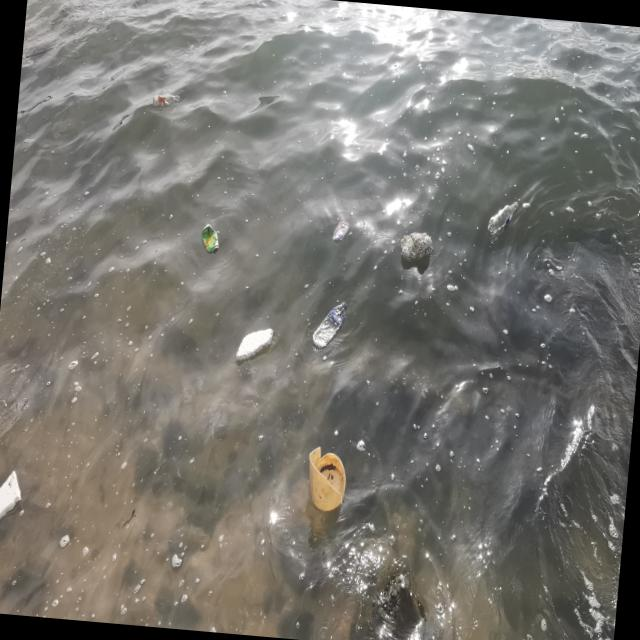can: (200, 224, 220, 252)
foam: (234, 325, 274, 366), (0, 466, 22, 533), (398, 229, 432, 268)
plastic: (310, 299, 348, 352), (486, 199, 517, 237), (150, 92, 179, 110)
plastic bottle: (303, 444, 349, 511)
unknow: (332, 218, 349, 244)
